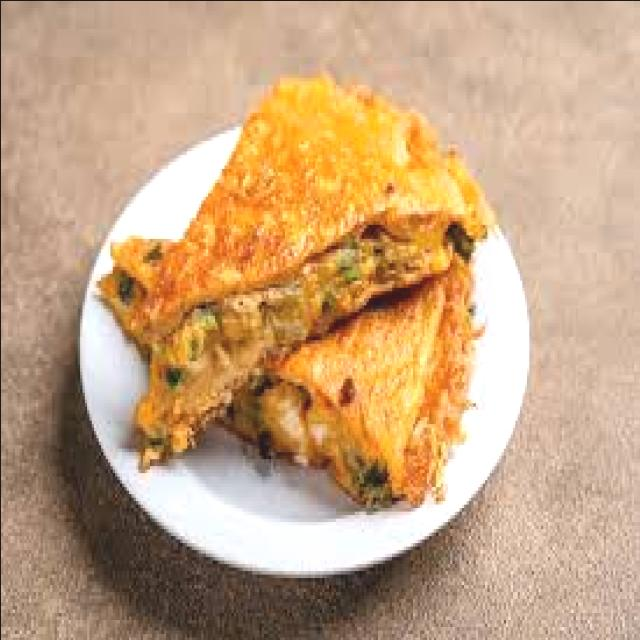telur dadar: (95, 73, 496, 511)
